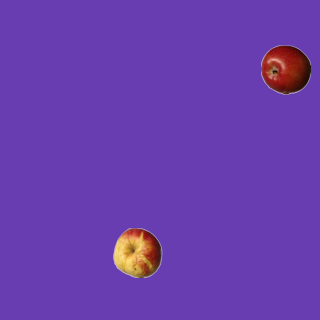Apple Braeburn: (260, 44, 310, 94)
Apple Red Yellow 1: (112, 227, 162, 277)
